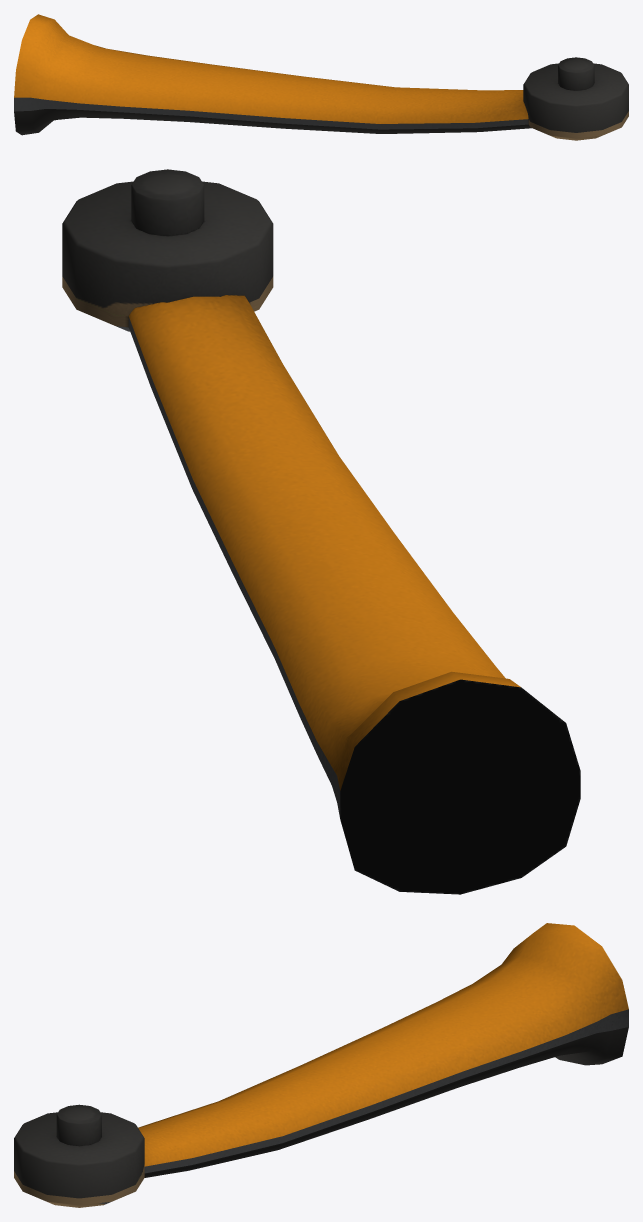
Rendered from Salamandre_BrasAvantD.FBX.
The picture shows the model from 3 angles, top to bottom: view 1: azimuth 30°, elevation 25°; view 2: azimuth 150°, elevation 25°; view 3: azimuth 270°, elevation 25°; orthographic projection. The views are drawn at different scales.
Visible parts, largest first — view 1: Salamandre_BrasAvantD; view 2: Salamandre_BrasAvantD; view 3: Salamandre_BrasAvantD.
Boxes of the visible parts, x1=… form: Salamandre_BrasAvantD: x1=14, y1=14, x2=628, y2=140; Salamandre_BrasAvantD: x1=62, y1=169, x2=580, y2=894; Salamandre_BrasAvantD: x1=14, y1=923, x2=628, y2=1207.
Size of the model in its own units: 5.89 by 1.63 by 5.89.
